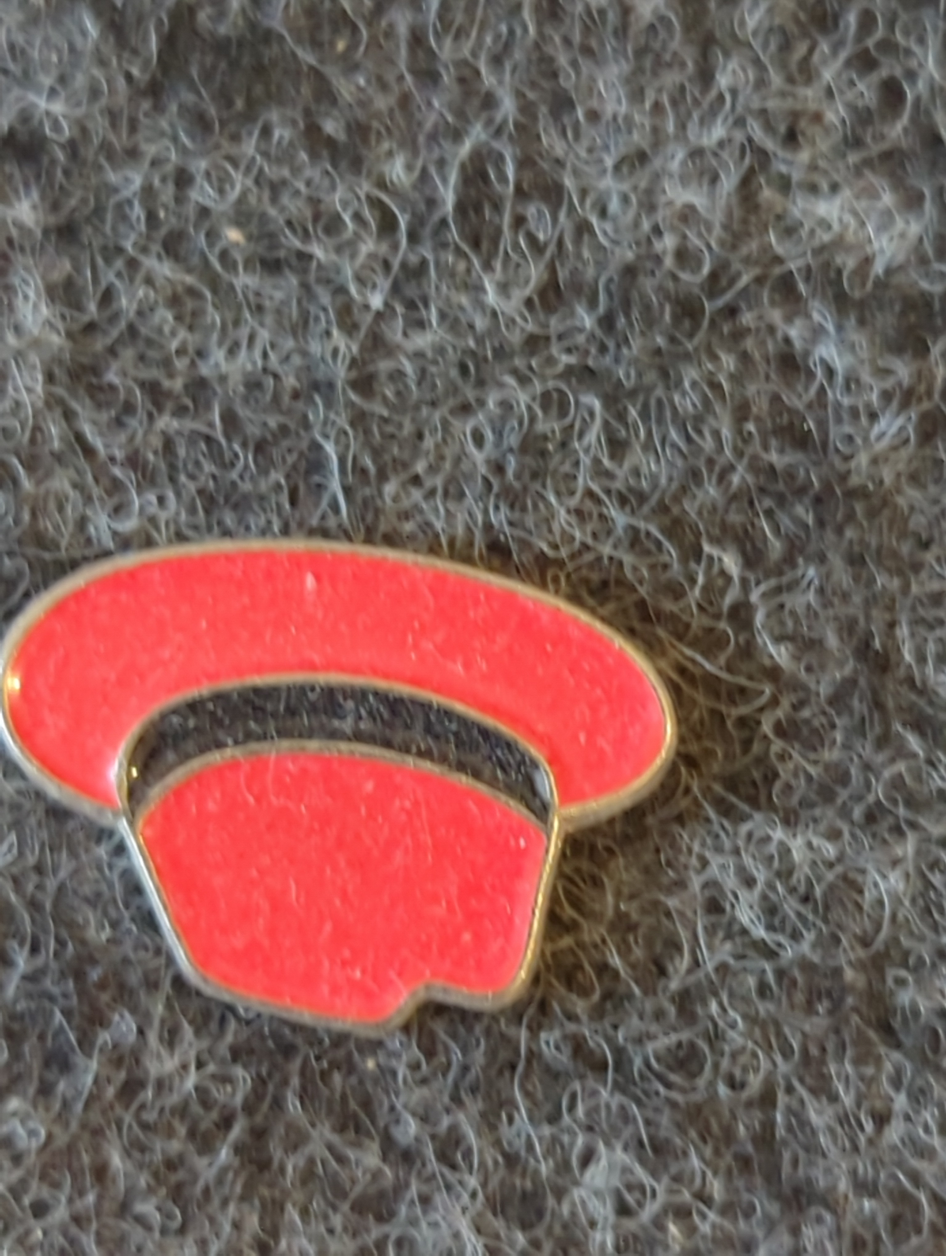Red-Hat: (0, 375, 762, 1131)
